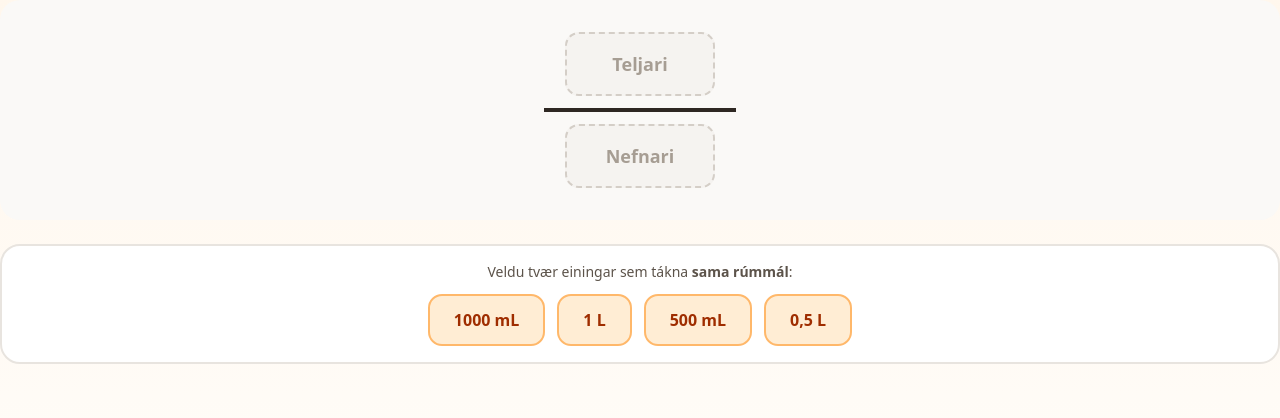
Test case: C2 states its verdict in well-formed notation › writes = 1 ✓ under a conversion factor
Click the button "1000 mL" at (487, 320), box left=428, top=294, right=545, bottom=346
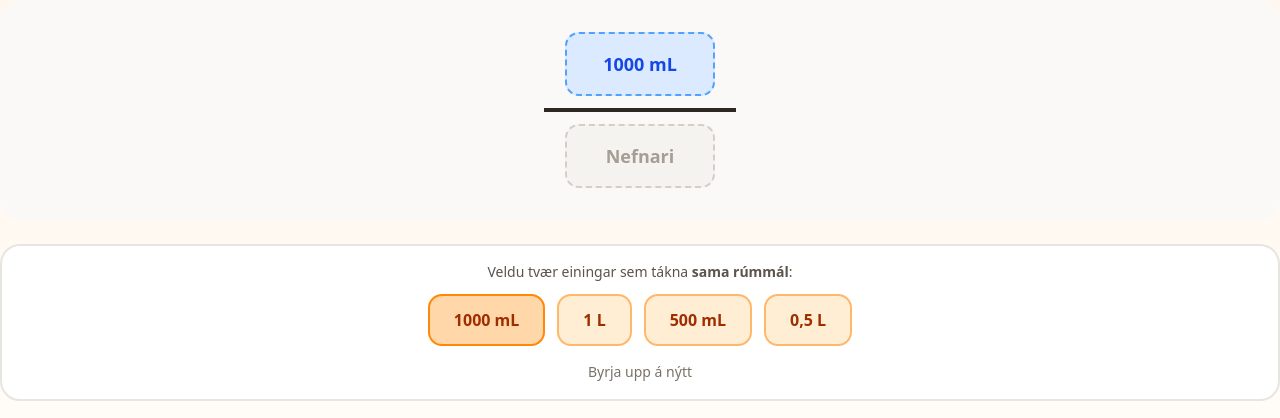
Click the button "1 L" at (595, 320), box left=557, top=294, right=632, bottom=346
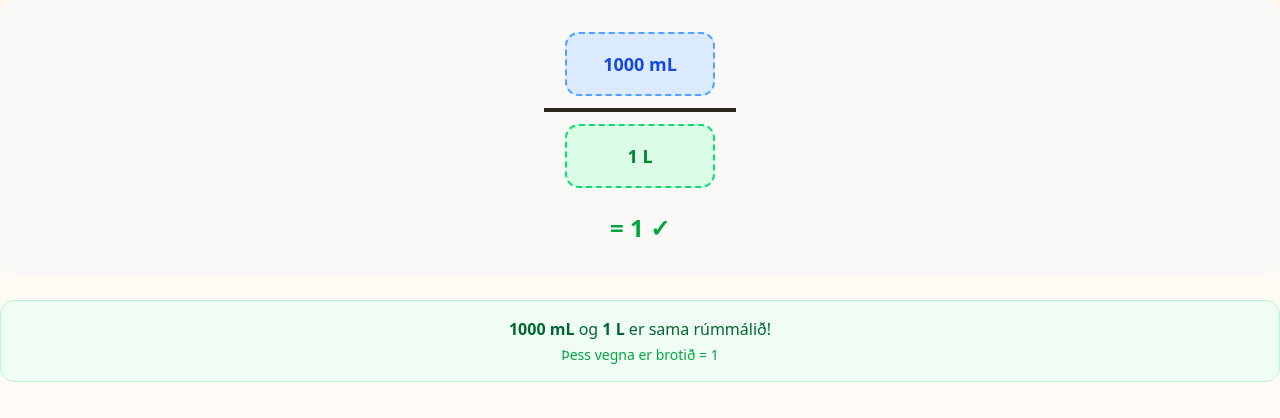
Now the text "= 1 ✓" is shown, box left=610, top=212, right=670, bottom=244
